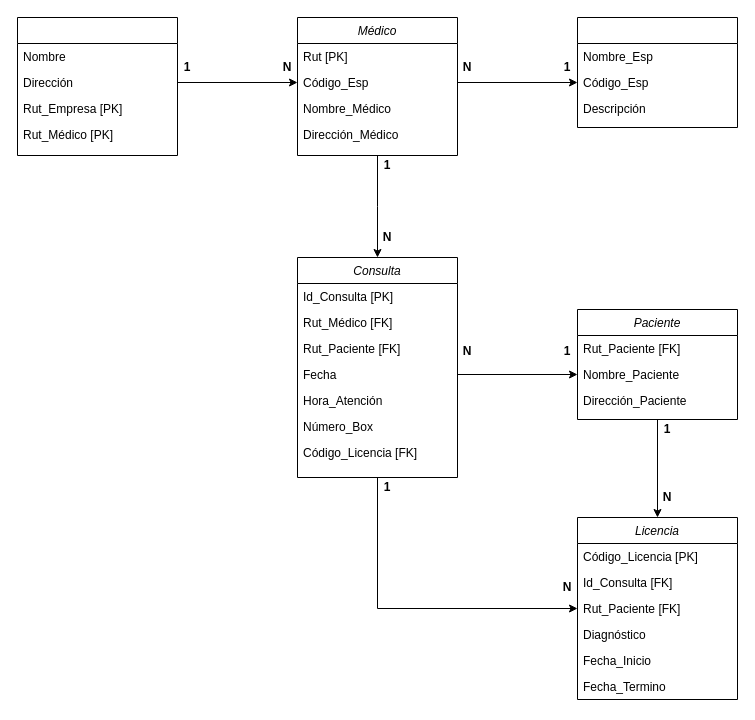
This 755x720 diagram has some shape labels left out. Each missing label, with the box of its shape:
Clínica: (16, 16, 178, 156)
Especialidad: (576, 16, 738, 128)
